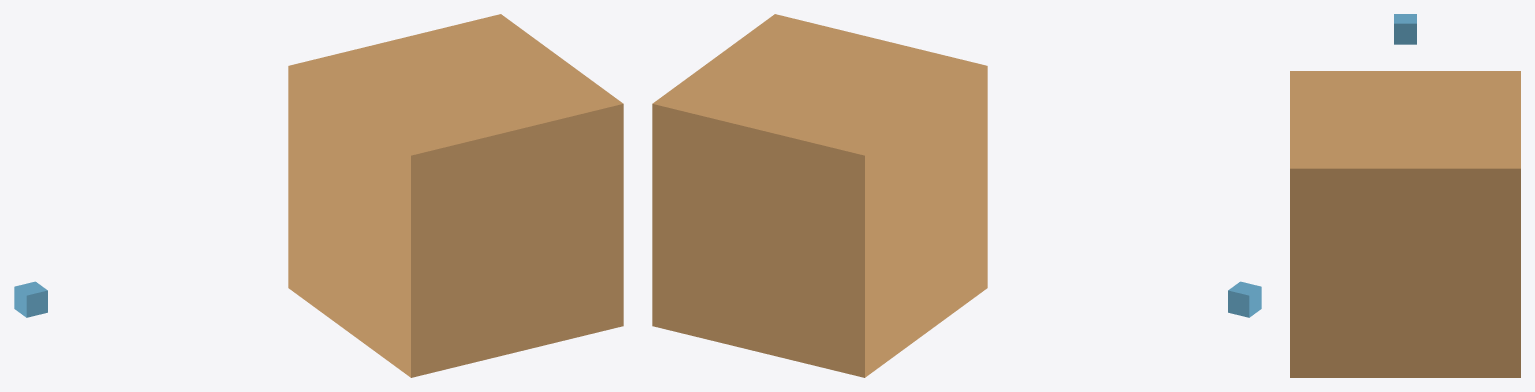
File: units_mismatch_scene.glb
3 views of the same model, side by side, from view 1: azimuth 30°, elevation 25°; view 2: azimuth 150°, elevation 25°; view 3: azimuth 270°, elevation 25° (orthographic). The views are drawn at different scales.
Visible parts, largest first — view 1: Cube_1m_In_Millimeters, Cube_1m_In_Centimeters; view 2: Cube_1m_In_Millimeters, Cube_1m_In_Centimeters; view 3: Cube_1m_In_Millimeters, Cube_1m_In_Centimeters.
Boxes of the visible parts, bbox=[...] form: Cube_1m_In_Millimeters: bbox=[288, 14, 623, 377]; Cube_1m_In_Centimeters: bbox=[14, 281, 47, 317]; Cube_1m_In_Millimeters: bbox=[652, 14, 987, 377]; Cube_1m_In_Centimeters: bbox=[1228, 281, 1261, 317]; Cube_1m_In_Millimeters: bbox=[1290, 71, 1520, 377]; Cube_1m_In_Centimeters: bbox=[1394, 14, 1416, 44].
Size of the model in its own units: 2550 by 1000 by 1000.
